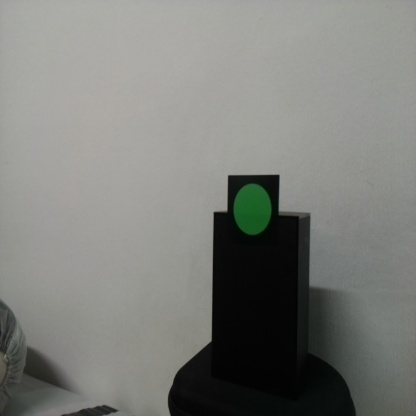id_5: (228, 176, 279, 249)
